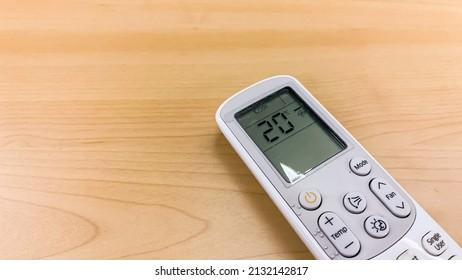Remote control: (214, 75, 462, 261)
